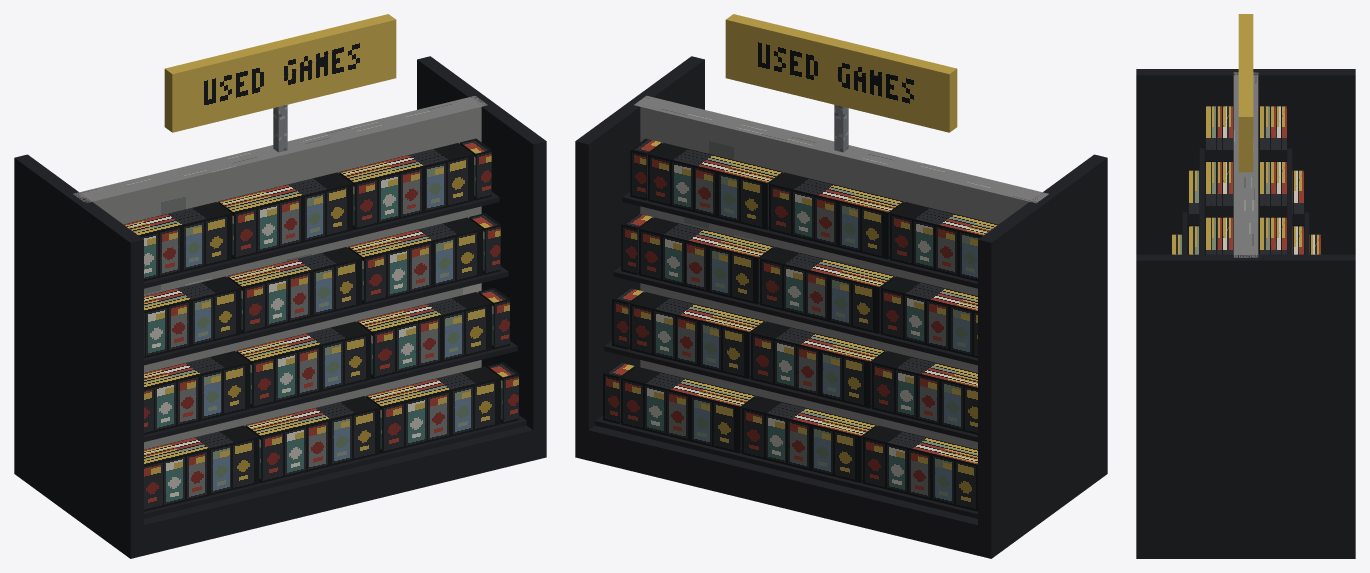
Rendered from COM_GameRack_Used.glb.
3 renders of one model, left to right at view 1: azimuth 30°, elevation 25°; view 2: azimuth 150°, elevation 25°; view 3: azimuth 270°, elevation 25°, orthographic. The views are drawn at different scales.
Parts seen in each view (by area): view 1: COM_GameRack_Used_Mesh; view 2: COM_GameRack_Used_Mesh; view 3: COM_GameRack_Used_Mesh.
Part boxes in pixels (<box>): COM_GameRack_Used_Mesh: <box>14,14,546,558</box>; COM_GameRack_Used_Mesh: <box>575,14,1107,558</box>; COM_GameRack_Used_Mesh: <box>1136,14,1355,558</box>.
Size of what is drawn, in the model's own units: 1.86 by 1.8 by 0.9.
1 material, 1 textured.
